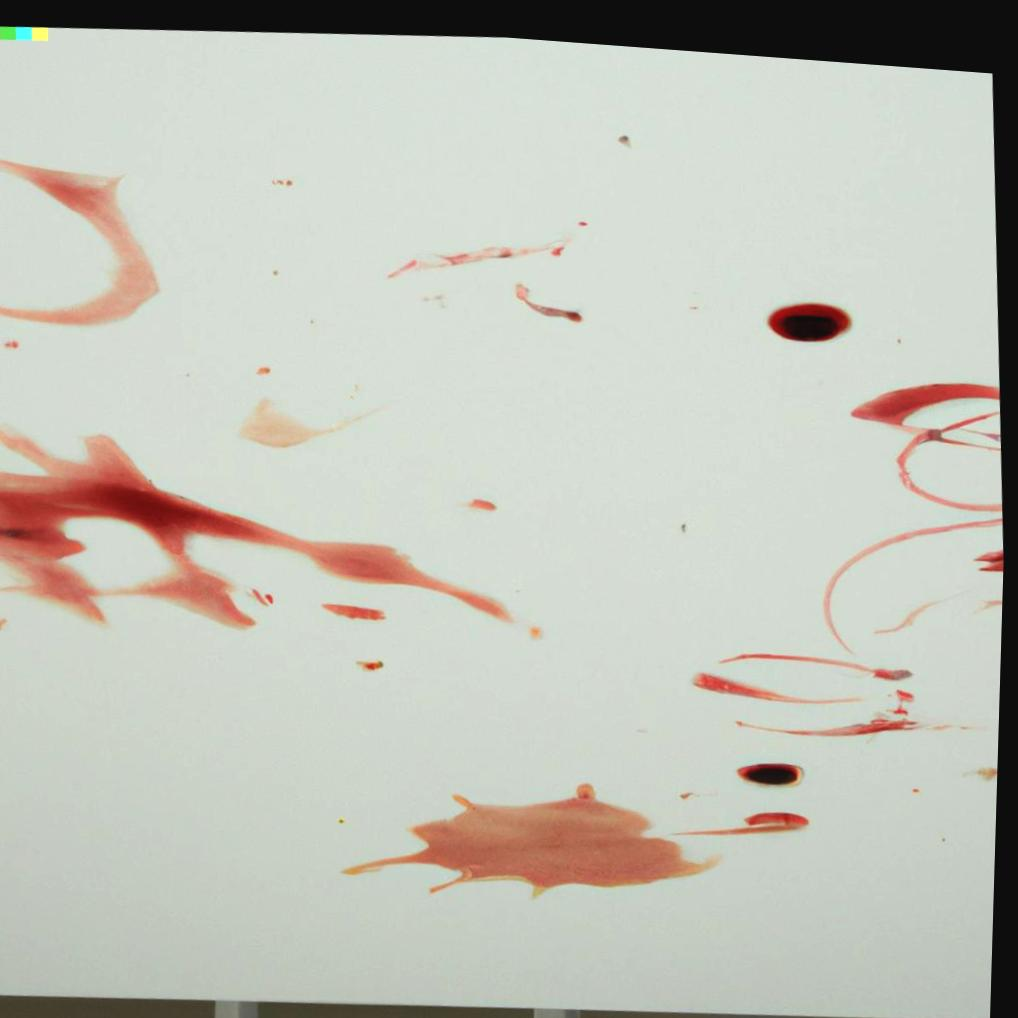Fire: (770, 289, 854, 328), (740, 750, 810, 774)
